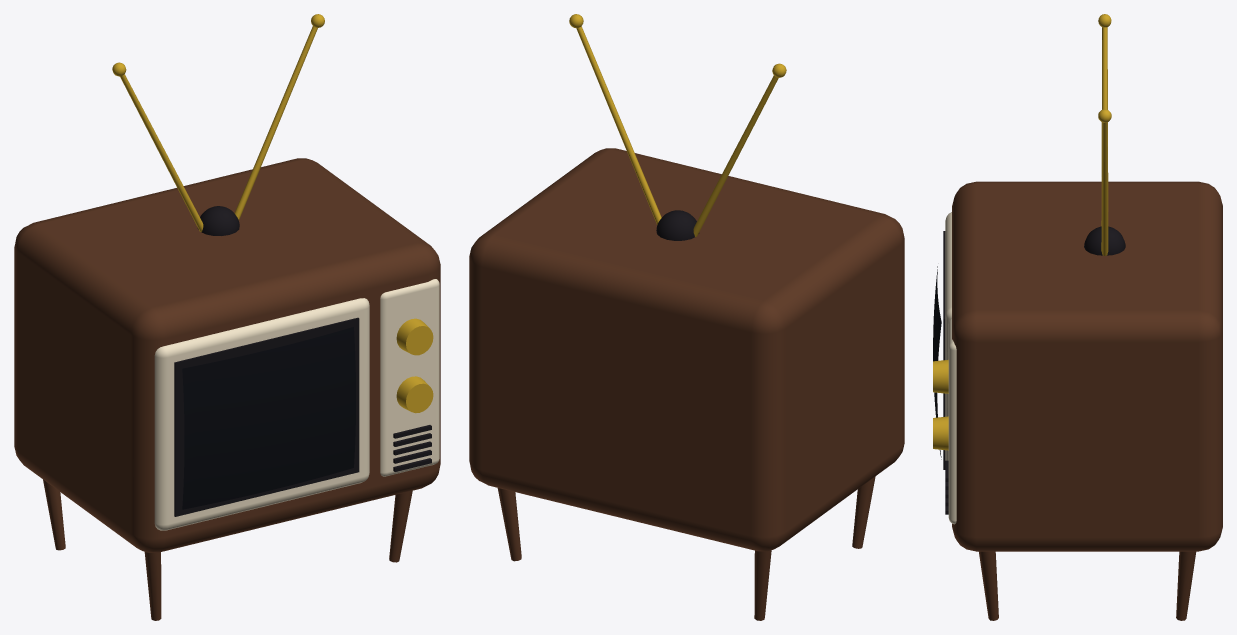
The model's file is standin-tv.glb.
The picture shows the model from 3 angles, left to right: view 1: azimuth 30°, elevation 25°; view 2: azimuth 150°, elevation 25°; view 3: azimuth 270°, elevation 25°; orthographic projection. The views are drawn at different scales.
Parts seen in each view (by area): view 1: cabinet, screen, bezel, panel, tube, leg (×3), rod (×2), knob.1, knob.2, antenna.base; view 2: cabinet, leg (×3), rod (×2), antenna.base; view 3: cabinet, leg (×2), panel, rod (×2), bezel, antenna.base, screen, knob.1, knob.2, tube.
Part boxes in pixels (x1,y1,x2,y2): cabinet: [14, 158, 440, 552]; screen: [182, 327, 355, 509]; bezel: [154, 298, 369, 530]; panel: [380, 279, 439, 476]; tube: [174, 317, 359, 516]; leg (×3): [43, 479, 412, 620]; rod (×2): [120, 26, 317, 232]; knob.1: [396, 318, 433, 355]; knob.2: [396, 376, 433, 413]; antenna.base: [197, 206, 239, 235]; cabinet: [469, 148, 904, 551]; leg (×3): [497, 476, 875, 620]; rod (×2): [576, 26, 778, 236]; antenna.base: [656, 210, 699, 240]; cabinet: [952, 181, 1222, 551]; leg (×2): [979, 551, 1196, 620]; panel: [948, 318, 956, 524]; rod (×2): [1101, 27, 1108, 255]; bezel: [945, 212, 951, 460]; antenna.base: [1084, 226, 1125, 255]; screen: [933, 266, 941, 459]; knob.1: [933, 359, 948, 393]; knob.2: [933, 416, 948, 450]; tube: [943, 231, 945, 469].
Size of the model in its own units: 1 by 1.59 by 0.835.
